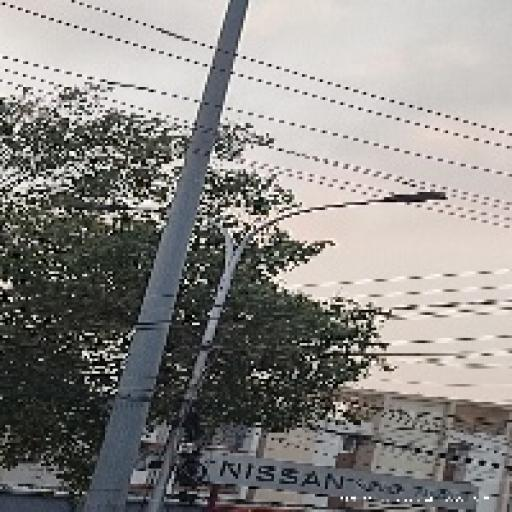Not Working: (374, 186, 450, 210)
